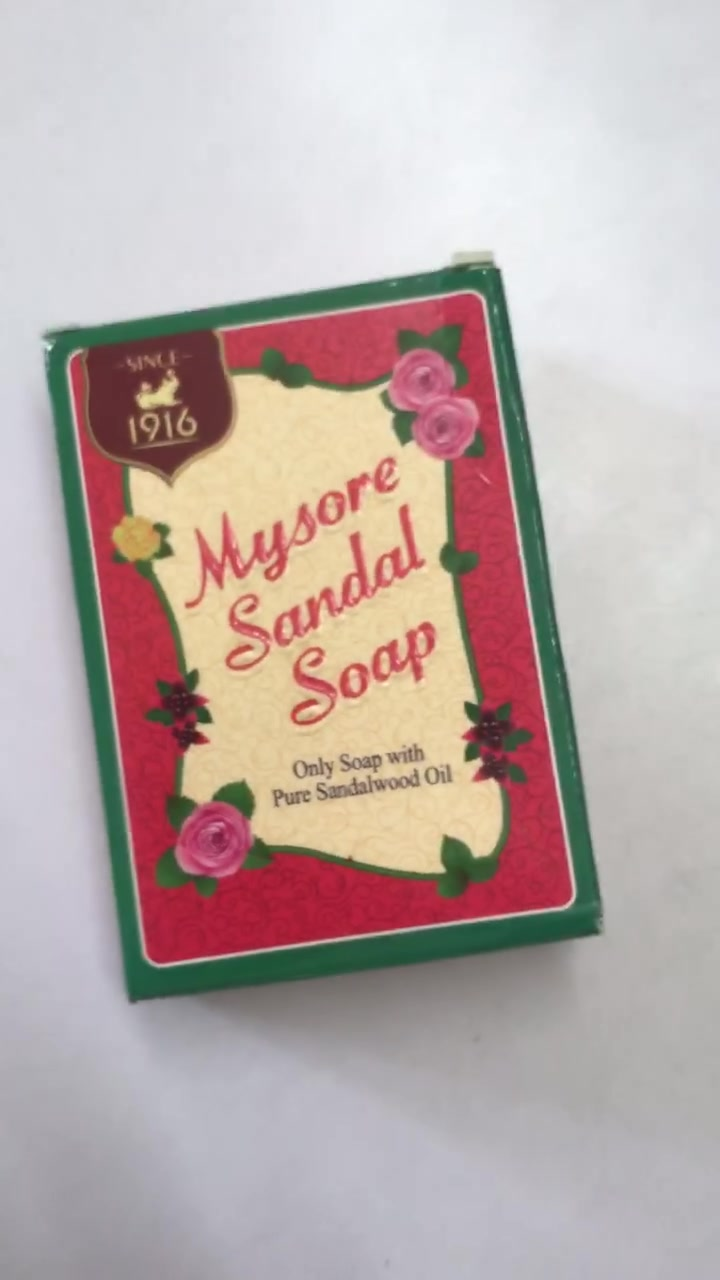mysore sandal soap: (46, 275, 596, 1007)
